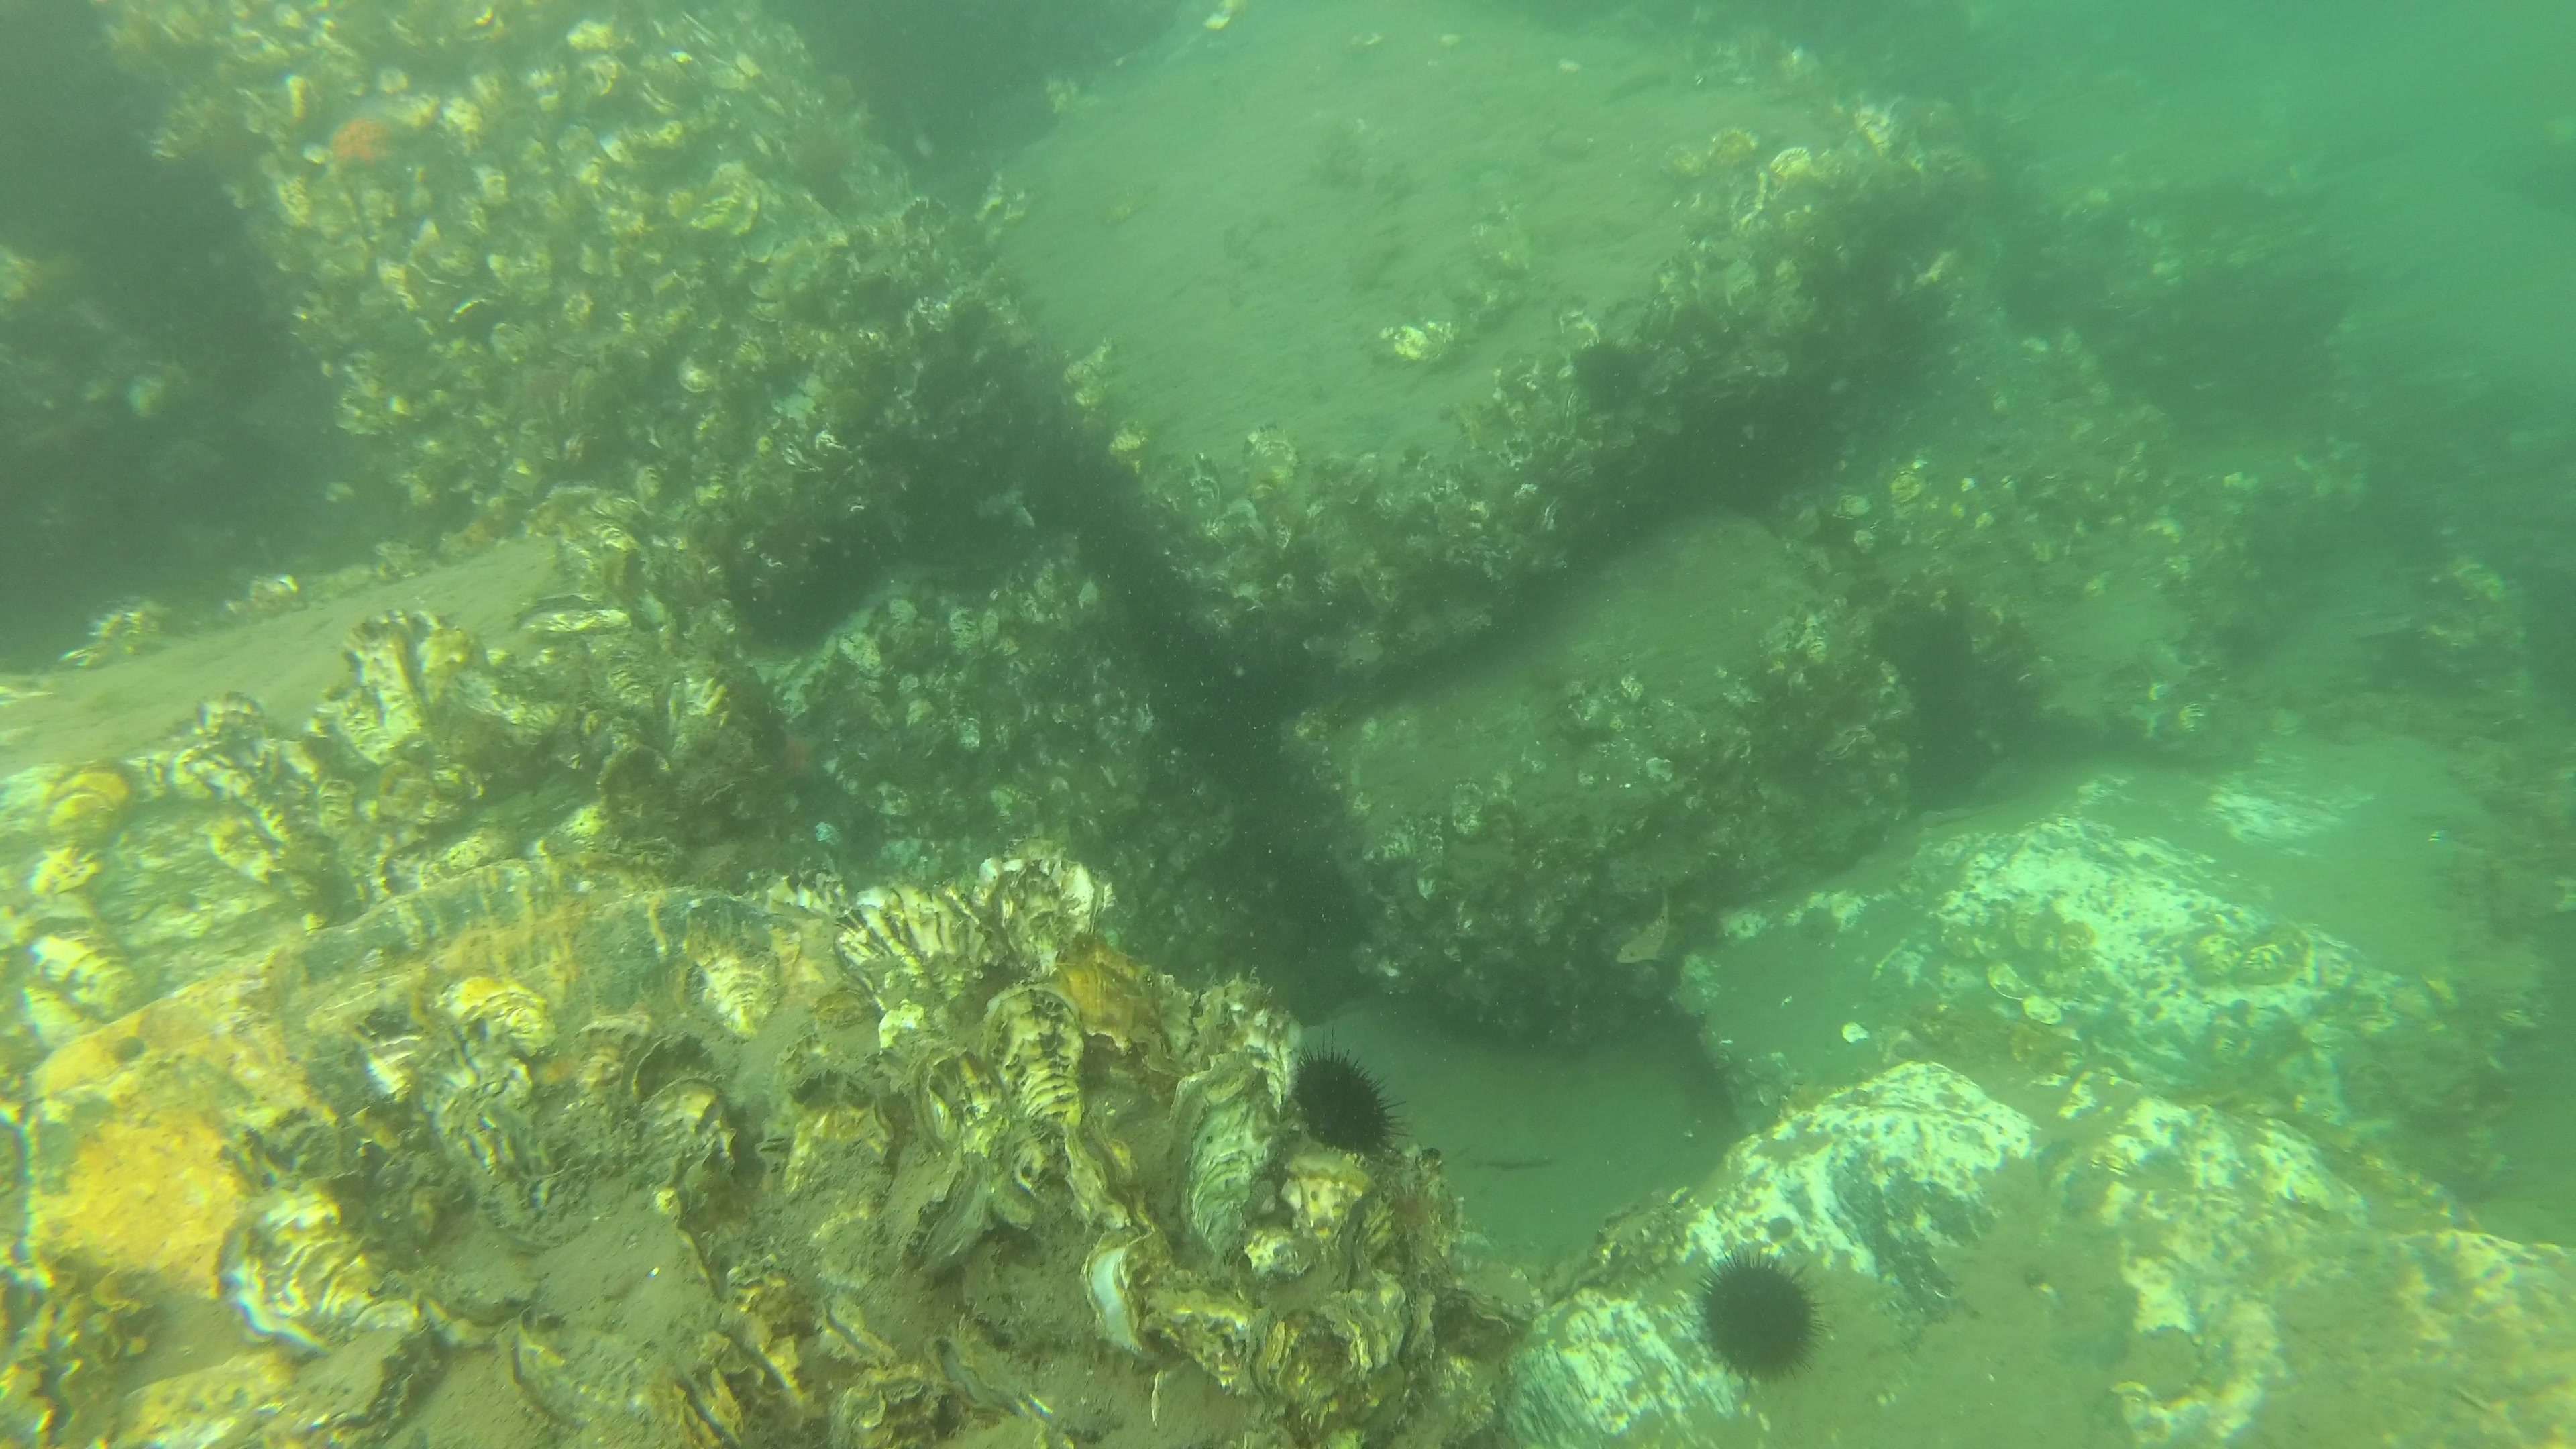echinus: (1698, 1254, 1819, 1385), (1293, 1046, 1401, 1161), (1575, 343, 1649, 410), (2220, 623, 2273, 678)
